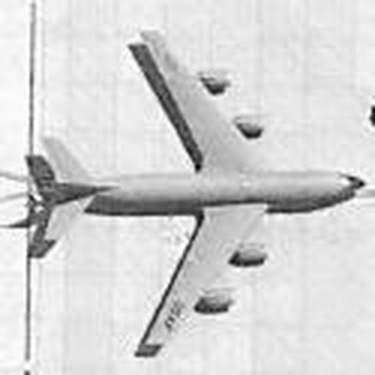airplane: (16, 20, 365, 369)
